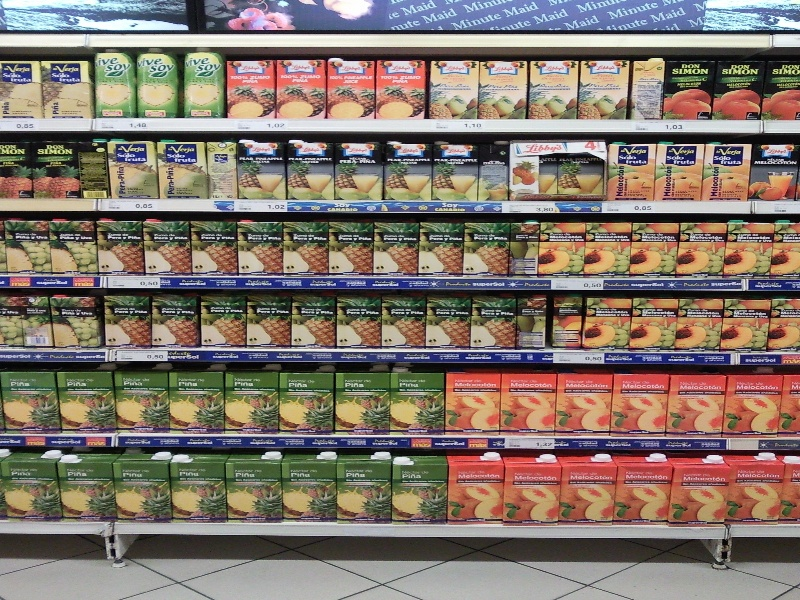juice: (554, 448, 619, 532), (501, 454, 569, 528), (223, 450, 288, 527), (385, 455, 453, 526), (279, 452, 342, 528), (335, 451, 398, 527), (171, 453, 232, 531), (54, 451, 119, 524), (111, 452, 176, 523), (446, 453, 506, 526), (90, 50, 146, 127), (181, 48, 232, 126), (424, 56, 483, 121), (132, 48, 182, 124), (703, 140, 758, 205), (578, 56, 630, 123), (654, 134, 702, 206), (478, 58, 531, 121), (525, 61, 578, 122), (607, 142, 656, 200)
